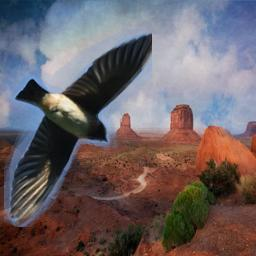Swallow: (4, 29, 152, 227)
